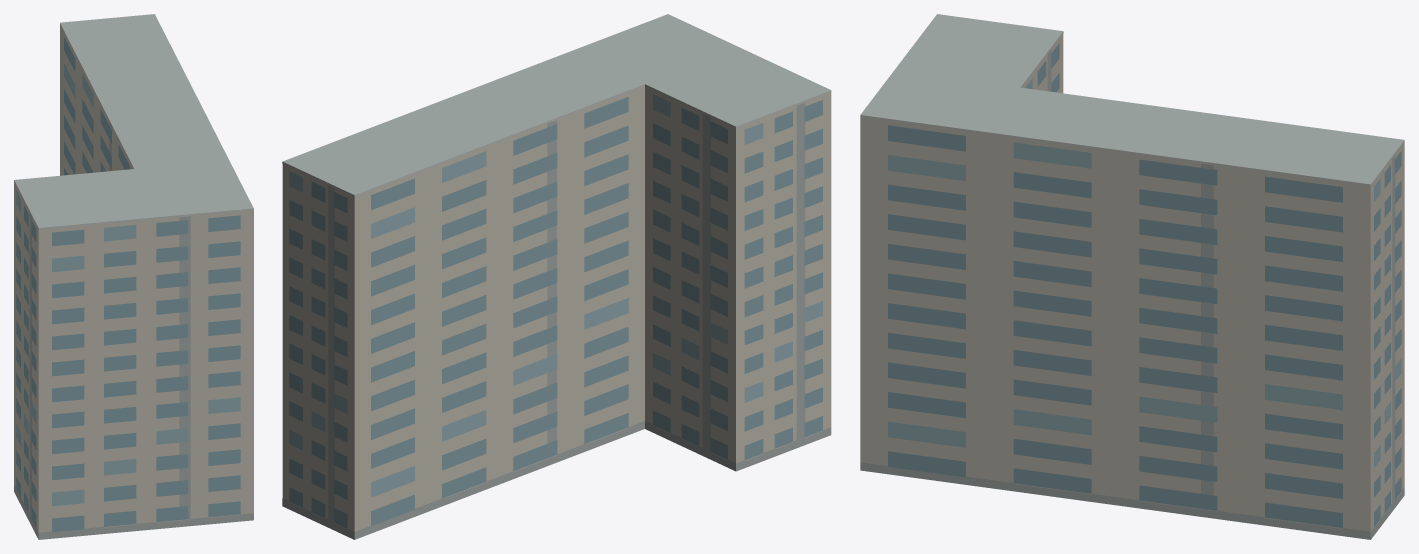
File: residential-96bf8e8e-20bd-46c8-96c1-fa46921f55c7.glb
3 views of the same model, side by side, from view 1: azimuth 30°, elevation 25°; view 2: azimuth 150°, elevation 25°; view 3: azimuth 270°, elevation 25° (orthographic). The views are drawn at different scales.
Parts seen in each view (by area): view 1: residential-96bf8e8e-20bd-46c8-96c1-fa46921f55c7.tmp; view 2: residential-96bf8e8e-20bd-46c8-96c1-fa46921f55c7.tmp; view 3: residential-96bf8e8e-20bd-46c8-96c1-fa46921f55c7.tmp.
Boxes of the visible parts, box(x1,y1,x2,y2) form: residential-96bf8e8e-20bd-46c8-96c1-fa46921f55c7.tmp: box(14, 14, 253, 539); residential-96bf8e8e-20bd-46c8-96c1-fa46921f55c7.tmp: box(282, 14, 831, 539); residential-96bf8e8e-20bd-46c8-96c1-fa46921f55c7.tmp: box(860, 14, 1404, 539).
Size of the model in its own units: 35.98 by 35 by 48.58.
